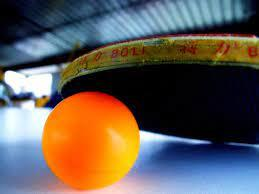oball: (33, 89, 144, 194)
